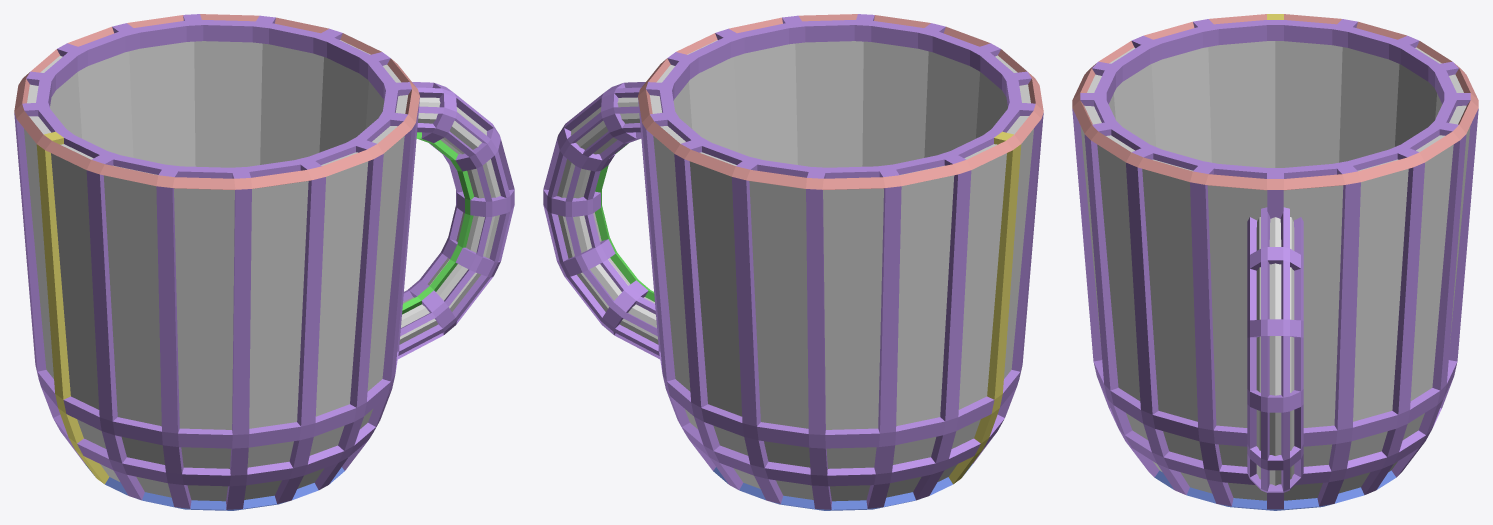
The model's file is Cup.fbx.
The picture shows the model from 3 angles, left to right: view 1: azimuth 30°, elevation 25°; view 2: azimuth 150°, elevation 25°; view 3: azimuth 270°, elevation 25°; orthographic projection.
Visible parts, largest first — view 1: cup.004; view 2: cup.004; view 3: cup.004.
Boxes of the visible parts, box(x1,y1,x2,y2) form: cup.004: box(14, 14, 514, 510); cup.004: box(543, 14, 1043, 510); cup.004: box(1072, 14, 1478, 510).
Bounding box in the file's own units: 88.95 × 65.8 × 66.87.
